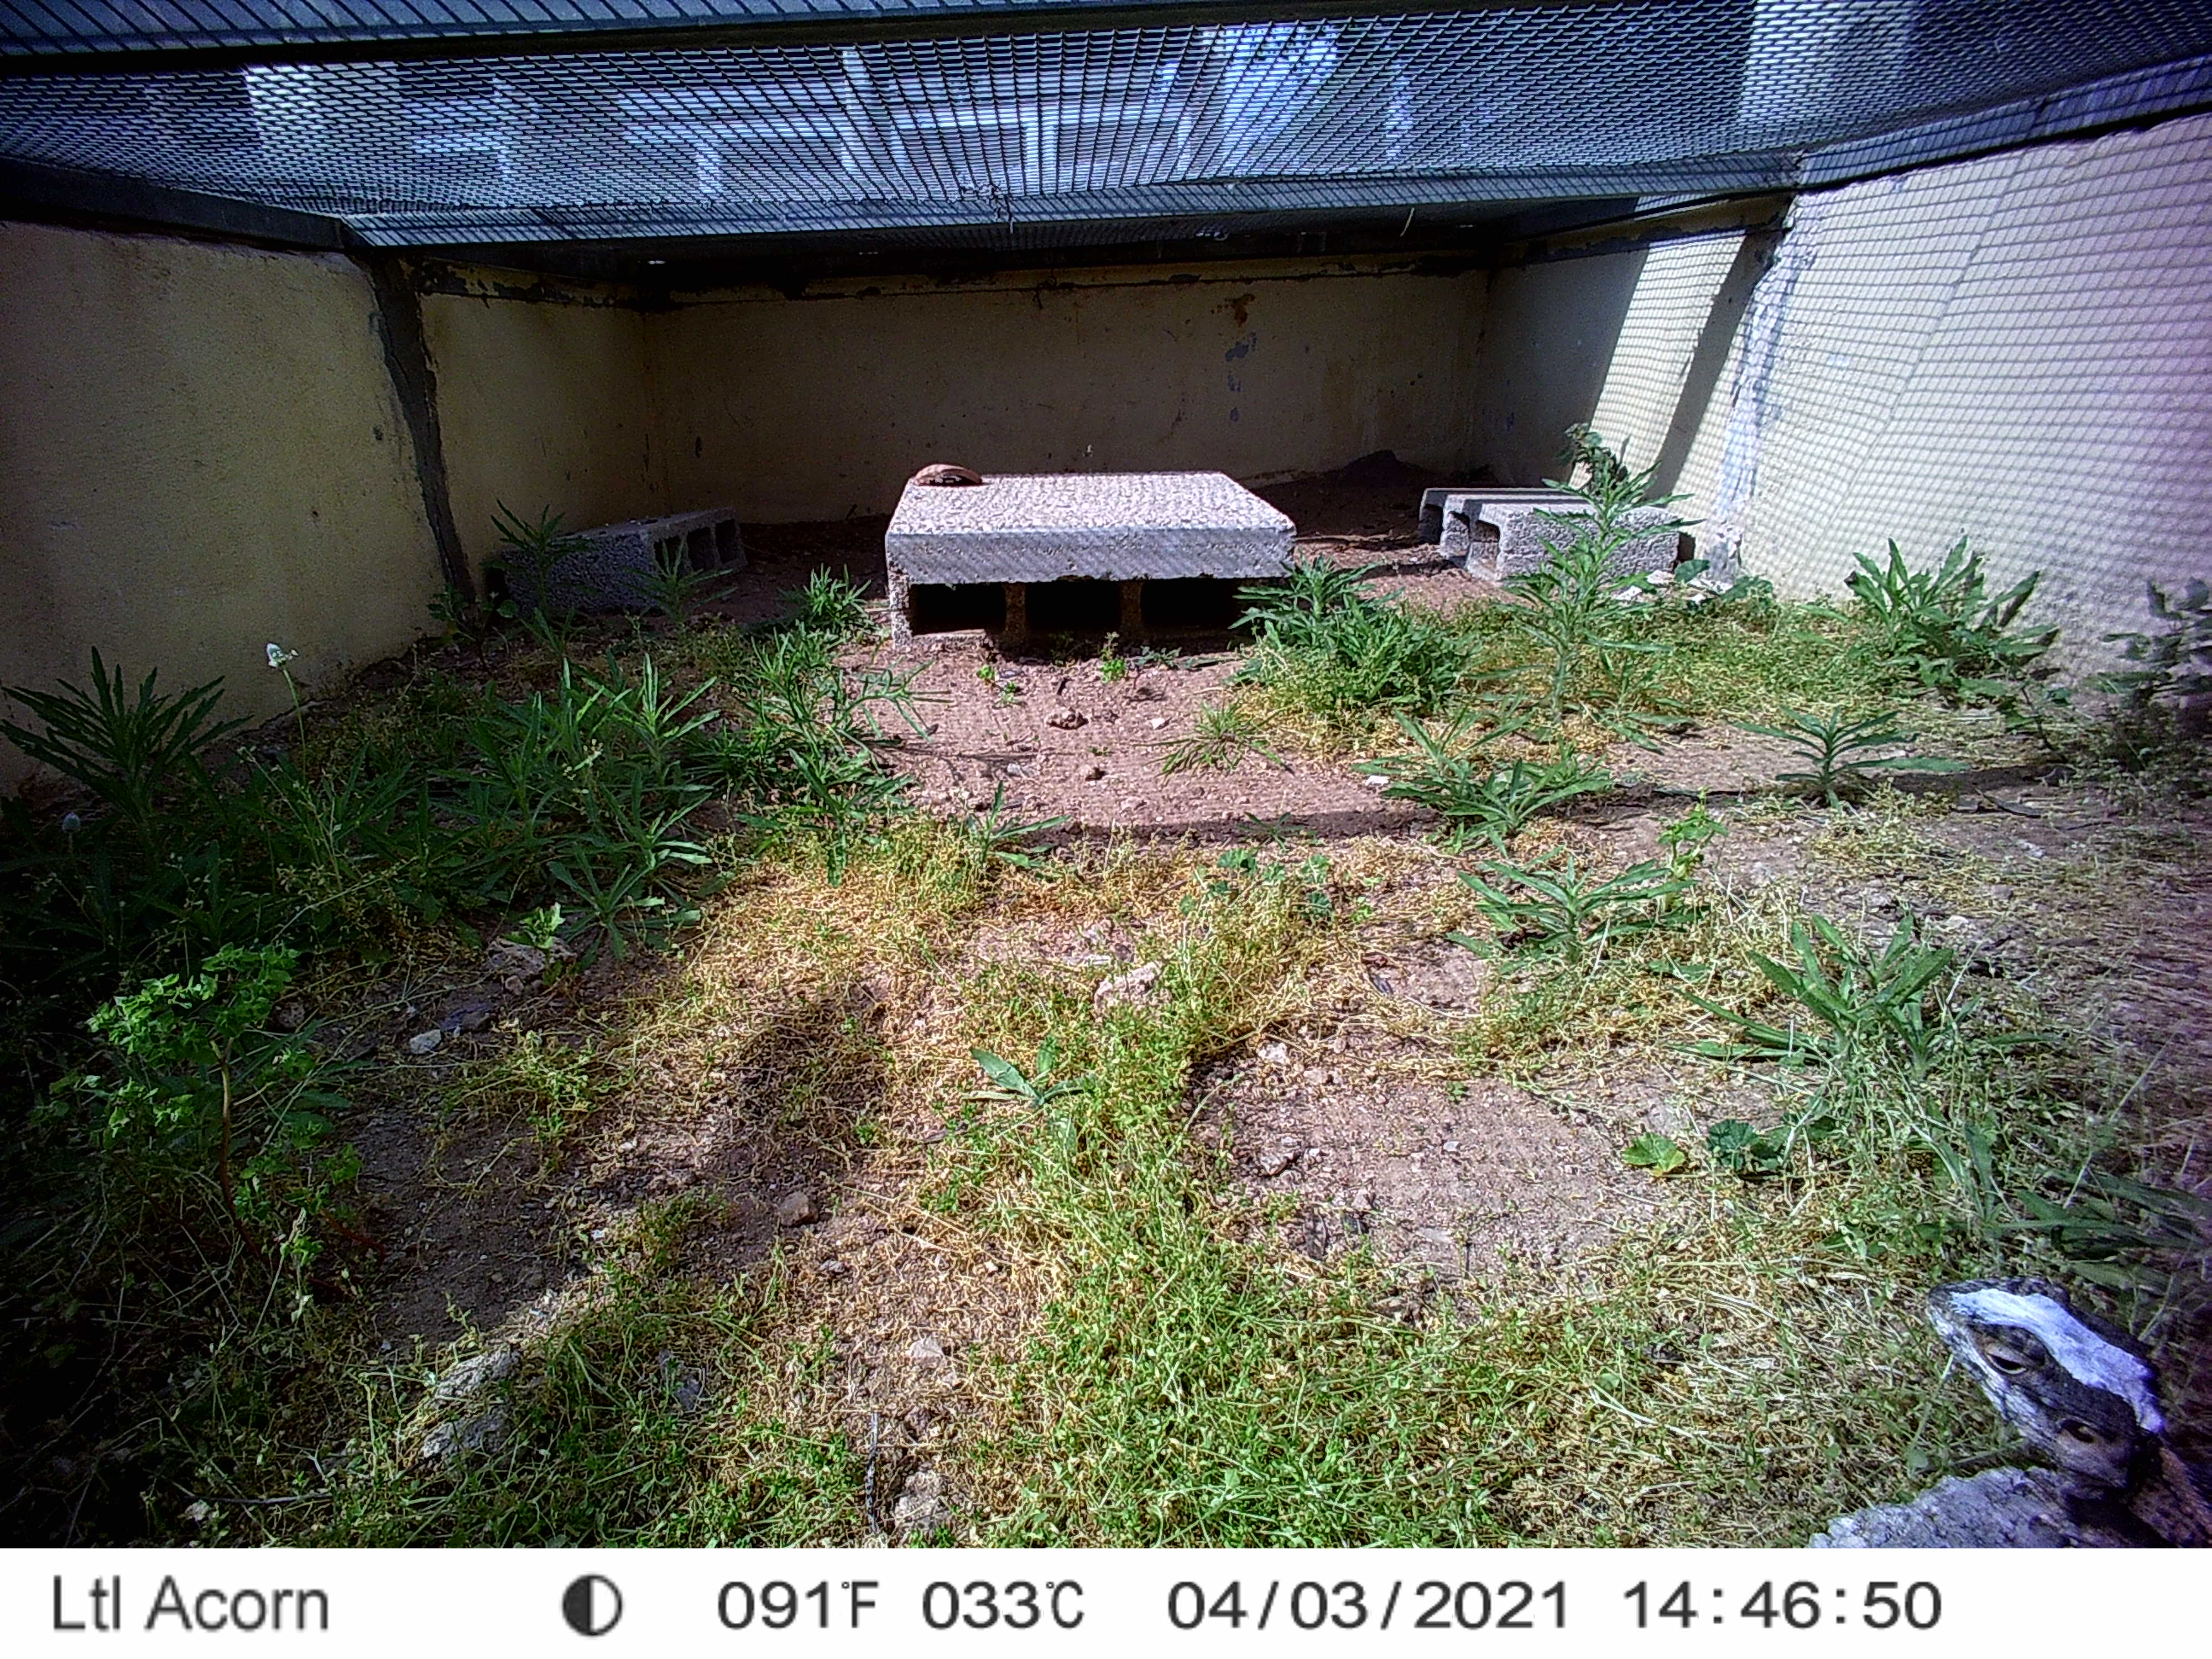lizard: (1919, 1274, 2210, 1549)
